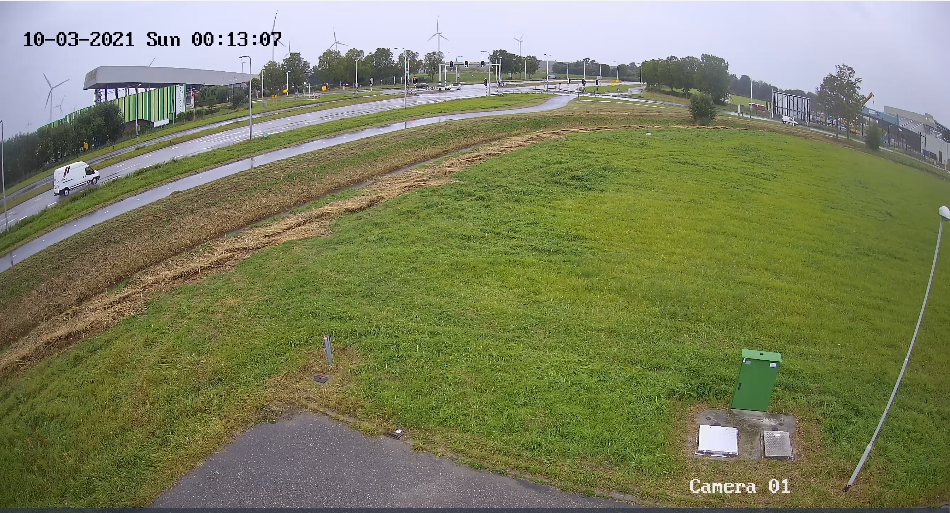werkbus: (53, 156, 103, 204)
